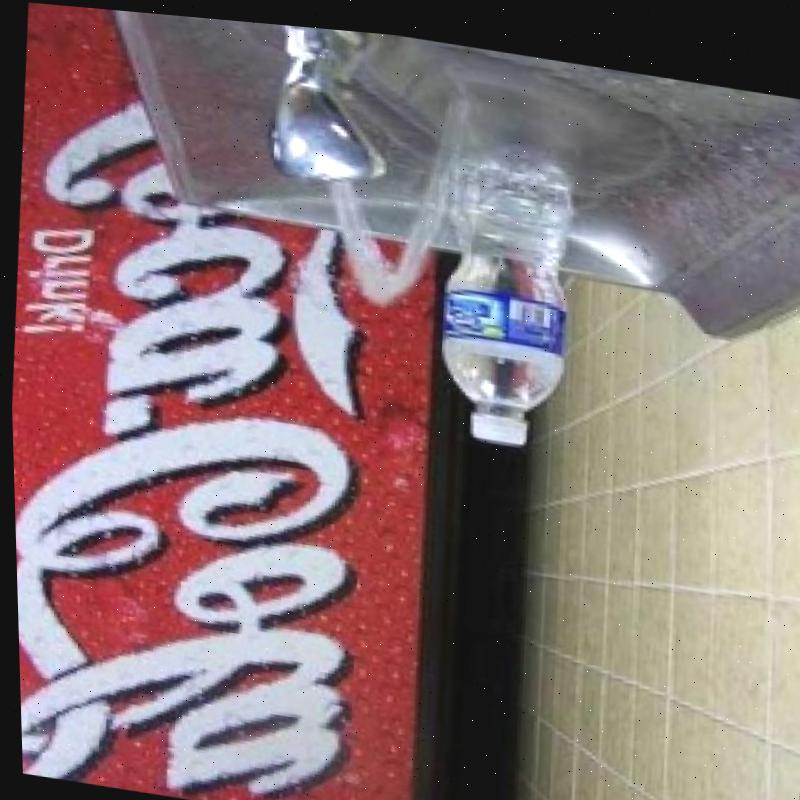botella: (430, 126, 582, 442)
